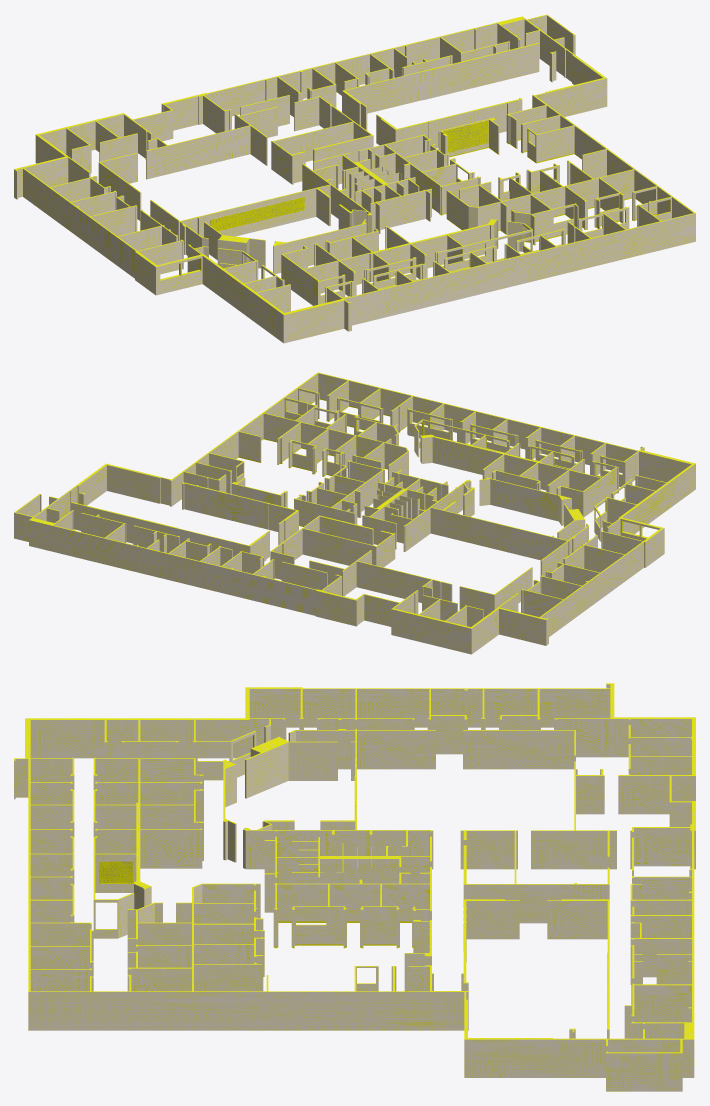
Rendered from willow_mini.dae.
3 renders of one model, top to bottom at view 1: azimuth 30°, elevation 25°; view 2: azimuth 150°, elevation 25°; view 3: azimuth 270°, elevation 25°, orthographic. The views are drawn at different scales.
Visible parts, largest first — view 1: SketchUp.003, SketchUp.004, SketchUp, SketchUp.007, SketchUp.069, SketchUp.093, SketchUp.065, SketchUp.064, SketchUp.056, SketchUp.030, SketchUp.086, SketchUp.022 (+9 smaller); view 2: SketchUp.003, SketchUp.004, SketchUp, SketchUp.093, SketchUp.007, SketchUp.065, SketchUp.030, SketchUp.086, SketchUp.064, SketchUp.056, SketchUp.095, SketchUp.069 (+8 smaller); view 3: SketchUp.003, SketchUp.004, SketchUp, SketchUp.007, SketchUp.093, SketchUp.030, SketchUp.056, SketchUp.065, SketchUp.022, SketchUp.064, SketchUp.012, SketchUp.069 (+8 smaller).
Part boxes in pixels (<box>): SketchUp.003: <box>24,19,693,312</box>; SketchUp.004: <box>14,15,695,343</box>; SketchUp: <box>281,220,532,305</box>; SketchUp.007: <box>14,14,695,314</box>; SketchUp.069: <box>342,43,539,130</box>; SketchUp.093: <box>150,164,372,255</box>; SketchUp.065: <box>271,97,373,184</box>; SketchUp.064: <box>146,107,277,179</box>; SketchUp.056: <box>313,153,431,233</box>; SketchUp.030: <box>358,135,480,214</box>; SketchUp.086: <box>376,98,522,148</box>; SketchUp.022: <box>98,153,141,220</box>; SketchUp.003: <box>34,373,691,626</box>; SketchUp.004: <box>14,447,695,654</box>; SketchUp: <box>414,420,618,517</box>; SketchUp.093: <box>390,481,588,576</box>; SketchUp.007: <box>14,372,695,628</box>; SketchUp.065: <box>270,516,395,579</box>; SketchUp.030: <box>294,461,384,526</box>; SketchUp.086: <box>182,483,298,545</box>; SketchUp.064: <box>309,550,452,611</box>; SketchUp.056: <box>362,470,448,549</box>; SketchUp.095: <box>479,478,571,525</box>; SketchUp.069: <box>71,502,269,561</box>; SketchUp.003: <box>30,689,691,1038</box>; SketchUp.004: <box>14,684,695,1091</box>; SketchUp: <box>93,759,203,938</box>; SketchUp.007: <box>14,683,695,1053</box>; SketchUp.093: <box>243,730,435,869</box>; SketchUp.030: <box>273,873,431,946</box>; SketchUp.056: <box>264,841,431,912</box>; SketchUp.065: <box>460,831,609,923</box>; SketchUp.022: <box>463,730,575,769</box>; SketchUp.064: <box>531,769,616,869</box>; SketchUp.012: <box>245,737,337,798</box>; SketchUp.069: <box>547,901,609,1038</box>.
Size of the model in its own units: 58.63 by 45.67 by 2.84.
